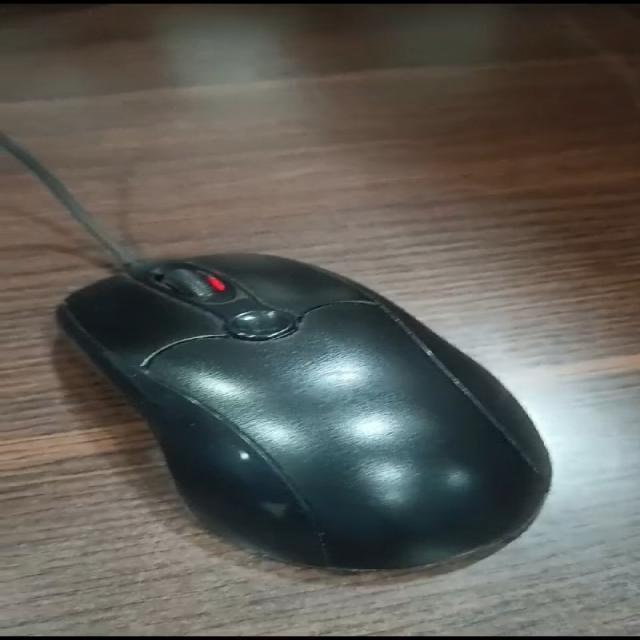mouse: (24, 225, 590, 590)
